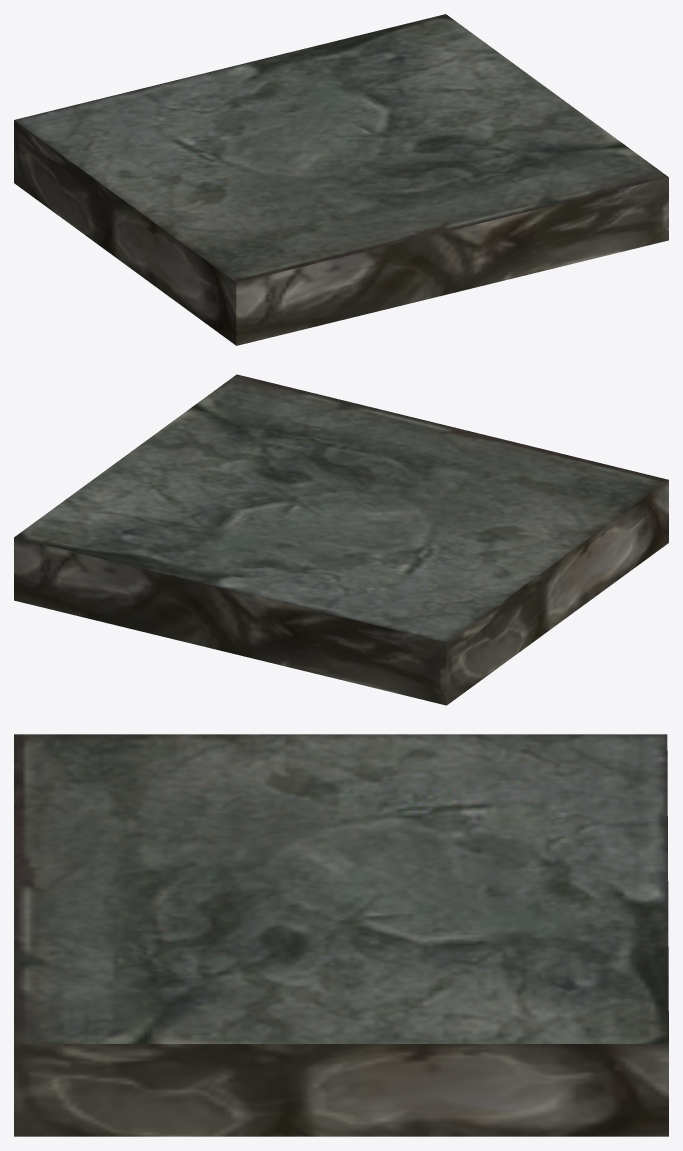
Rendered from Z_dizhuan006.fbx.
The picture shows the model from 3 angles, top to bottom: view 1: azimuth 30°, elevation 25°; view 2: azimuth 150°, elevation 25°; view 3: azimuth 270°, elevation 25°; orthographic projection. The views are drawn at different scales.
Visible parts, largest first — view 1: Z_dizhuan006; view 2: Z_dizhuan006; view 3: Z_dizhuan006.
Boxes of the visible parts, x1,y1,x2,y2 form: Z_dizhuan006: [14, 14, 668, 345]; Z_dizhuan006: [14, 374, 668, 705]; Z_dizhuan006: [14, 734, 668, 1136].
Bounding box in the file's own units: 142 × 19.8 × 127.
